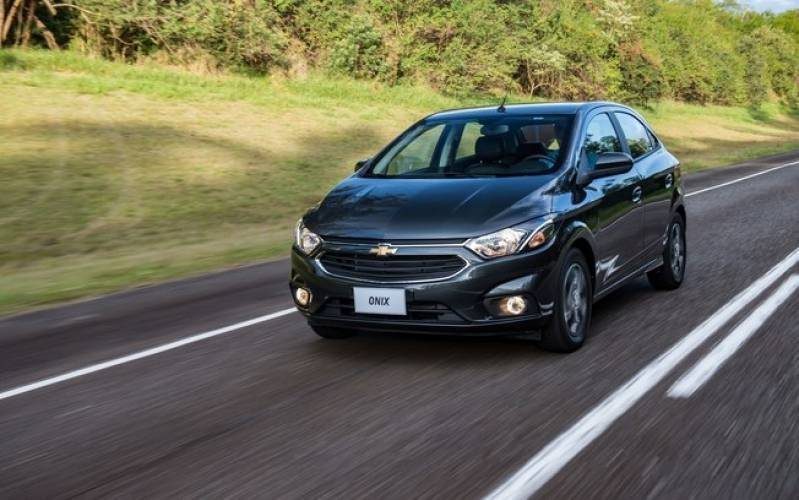Carro: (285, 101, 695, 353)
